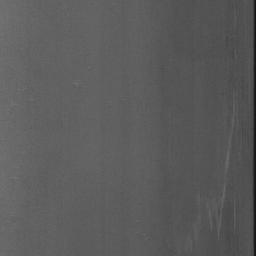Silk spot: (253, 0, 256, 256), (218, 197, 239, 227), (220, 230, 238, 251), (208, 216, 217, 233), (226, 176, 233, 194)
